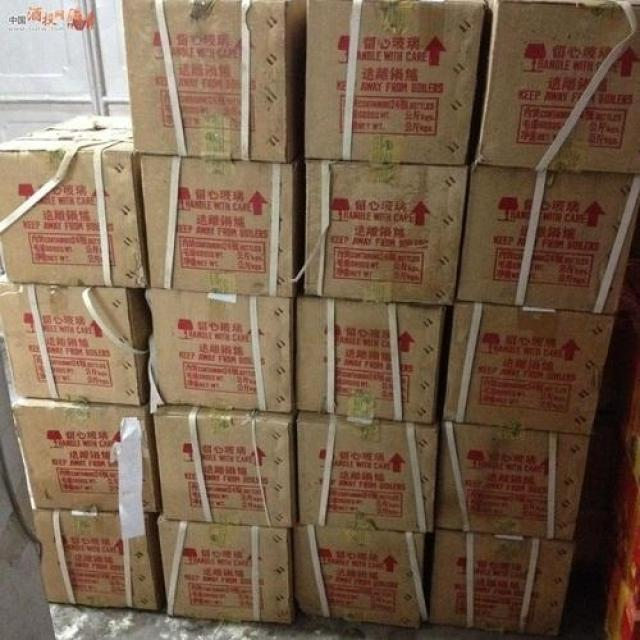box: (305, 0, 488, 165), (120, 0, 302, 164), (475, 1, 640, 173), (457, 166, 640, 315), (303, 161, 468, 305), (440, 303, 616, 435), (0, 129, 147, 287), (138, 156, 300, 297), (0, 273, 152, 404), (296, 298, 445, 425), (146, 289, 294, 413), (438, 422, 590, 541), (296, 413, 439, 534), (152, 408, 296, 527), (10, 398, 157, 512), (430, 529, 575, 639), (157, 522, 294, 625), (296, 525, 425, 630), (35, 512, 166, 613)
